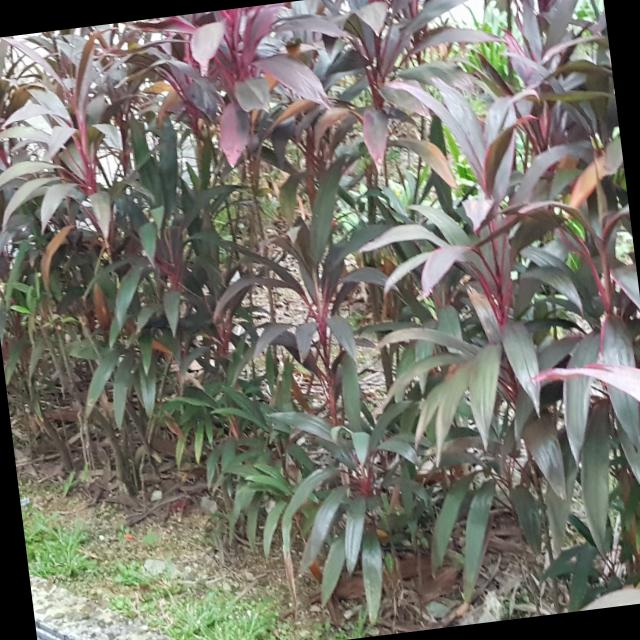Ti: (344, 82, 631, 438), (120, 3, 299, 225), (0, 59, 154, 295)
